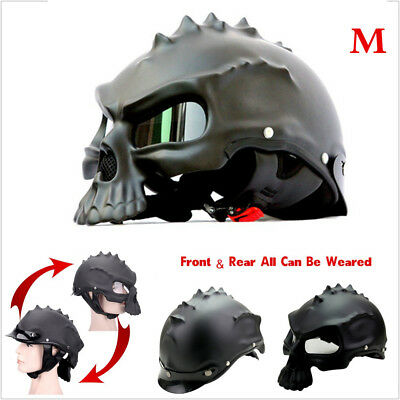with_helmet: (73, 11, 352, 219), (161, 283, 266, 395), (72, 249, 148, 316), (9, 308, 85, 363)
